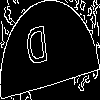D: (25, 24, 50, 76)
